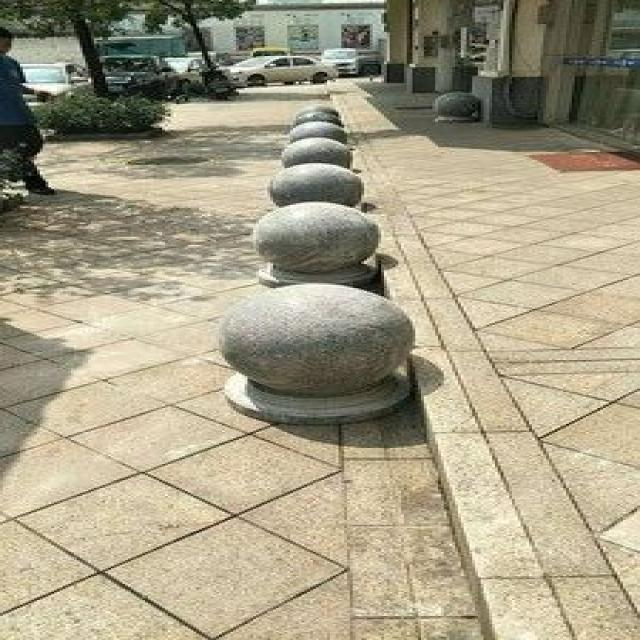car: (216, 53, 333, 85)
spherical_roadblock: (216, 280, 413, 422), (248, 200, 378, 286), (267, 162, 364, 206), (279, 136, 350, 166), (430, 90, 480, 122), (282, 119, 344, 142)
